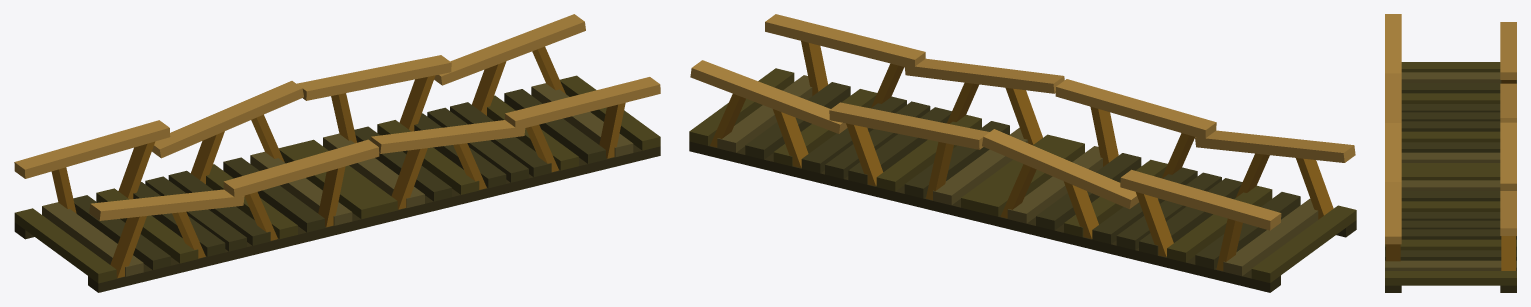
The model's file is Bridge.fbx.
The picture shows the model from 3 angles, left to right: view 1: azimuth 30°, elevation 25°; view 2: azimuth 150°, elevation 25°; view 3: azimuth 270°, elevation 25°; orthographic projection. The views are drawn at different scales.
Parts seen in each view (by area): view 1: cube_7, cube_23, cube_8, cube_36, cube_31, cube_49, cube_18, cube_44, cube_17, cube_16, cube, cube_26 (+38 smaller); view 2: cube_7, cube_23, cube_8, cube_31, cube_36, cube_49, cube_18, cube_44, cube_17, cube_16, cube_14, cube_42 (+38 smaller); view 3: cube_30, cube_29, cube_27, cube_1, cube_49, cube_26, cube_28, cube_16, cube, cube_2, cube_13, cube_14 (+22 smaller).
Boxes of the visible parts, x1,y1,x2,y2 form: cube_7: (152, 81, 303, 158); cube_23: (14, 120, 170, 178); cube_8: (223, 139, 379, 198); cube_36: (505, 77, 660, 130); cube_31: (434, 14, 585, 85); cube_49: (297, 55, 451, 100); cube_18: (89, 189, 244, 220); cube_44: (370, 120, 525, 153); cube_17: (14, 208, 116, 283); cube_16: (42, 202, 143, 276); cube: (223, 157, 324, 232); cube_26: (504, 89, 605, 163); cube_7: (982, 129, 1138, 209); cube_23: (1120, 169, 1281, 230); cube_8: (1055, 79, 1216, 139); cube_31: (690, 60, 847, 133); cube_36: (765, 14, 925, 69); cube_49: (829, 102, 989, 149); cube_18: (1195, 130, 1355, 162); cube_44: (904, 58, 1064, 93); cube_17: (1251, 205, 1356, 282); cube_16: (1223, 199, 1318, 276); cube_14: (1167, 185, 1272, 262); cube_42: (933, 127, 1027, 205); cube_30: (1385, 271, 1516, 285); cube_29: (1385, 260, 1516, 270); cube_27: (1385, 239, 1516, 250); cube_1: (1401, 131, 1500, 142); cube_49: (1500, 122, 1516, 190); cube_26: (1385, 250, 1516, 260); cube_28: (1401, 229, 1516, 239); cube_16: (1401, 72, 1516, 82); cube: (1401, 142, 1500, 152); cube_2: (1401, 121, 1500, 131); cube_13: (1401, 83, 1516, 93); cube_14: (1401, 93, 1500, 103).
Size of the model in its own units: 388 by 54.93 by 100.
1 material, 1 textured.
